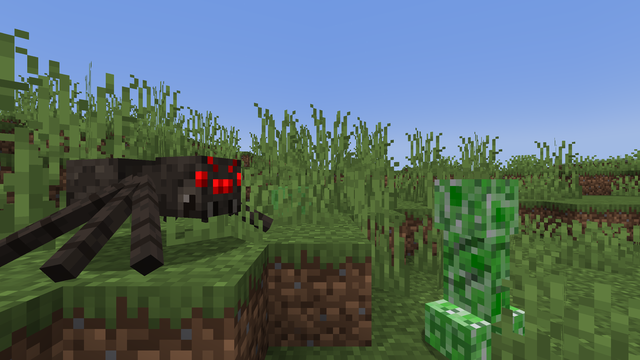araignees: (5, 140, 254, 268)
creepers: (430, 170, 530, 356)
slimes: (273, 185, 306, 217)
